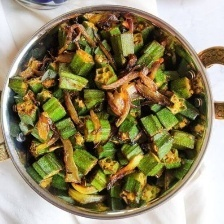sabzi: (6, 8, 212, 219)
